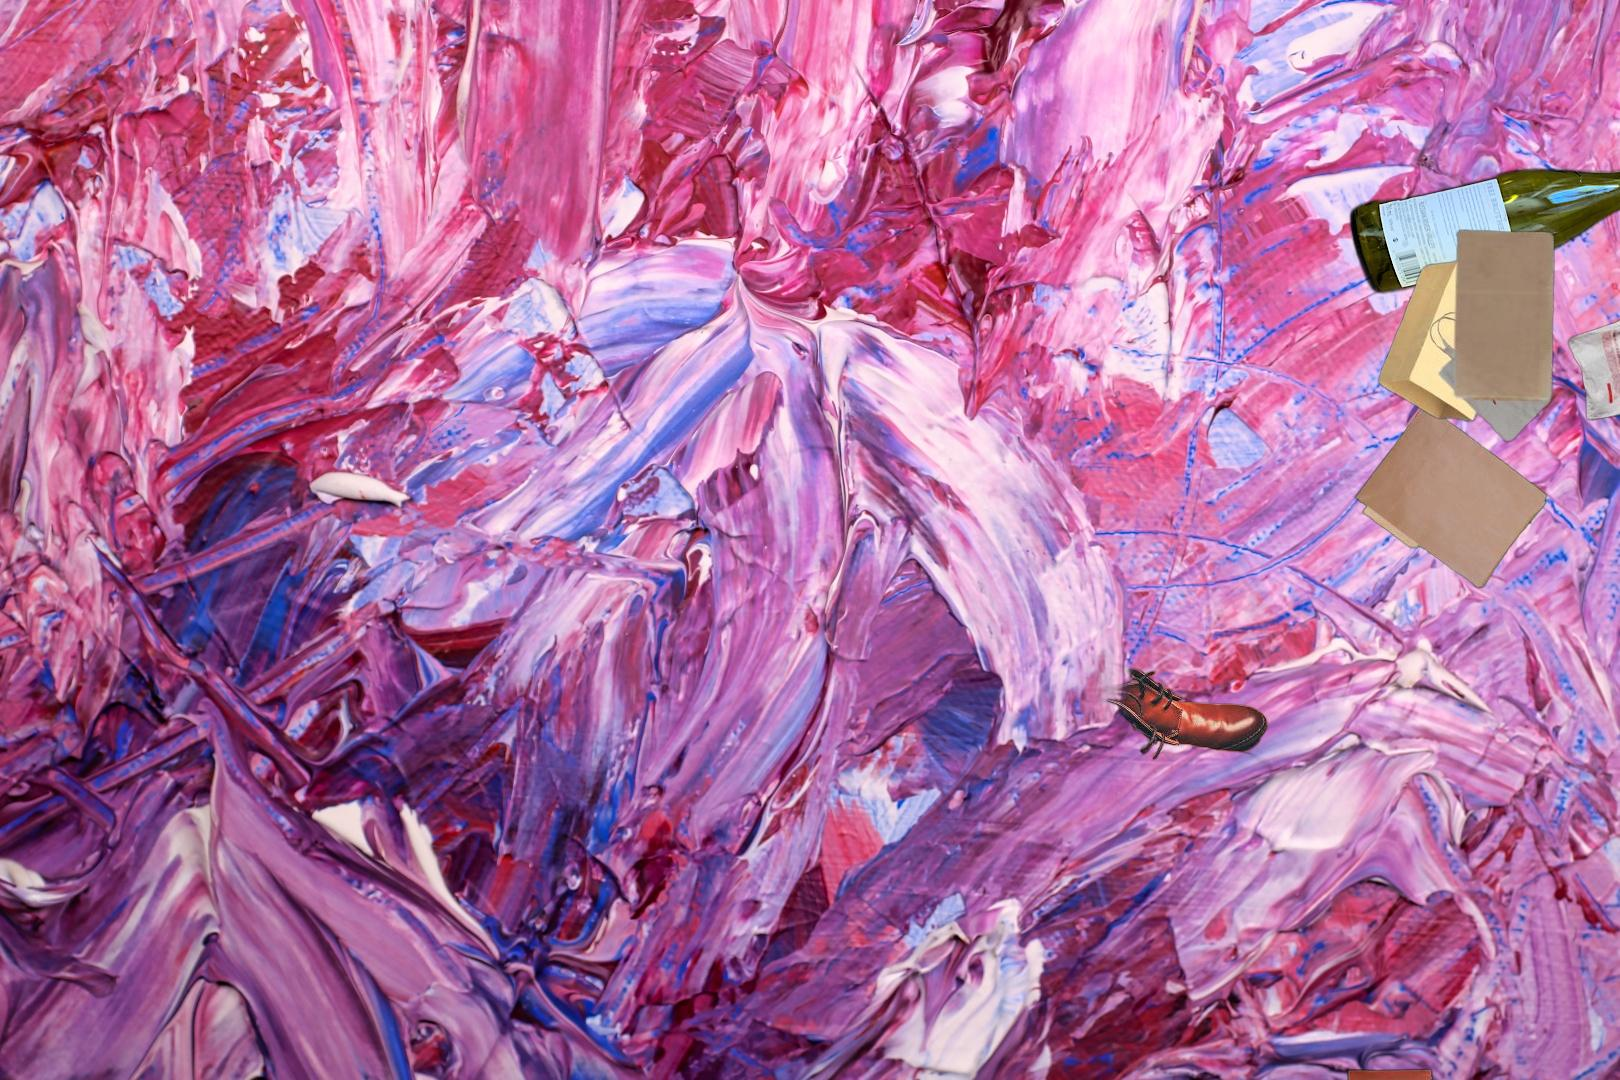glass: (1345, 137, 1620, 299)
metal-cans: (616, 732, 1128, 1080)
paper-bag: (1375, 228, 1563, 445), (1352, 403, 1549, 589)
plastic-bag: (1565, 280, 1620, 422), (1339, 1066, 1436, 1080)
shoes: (1086, 658, 1276, 824)
